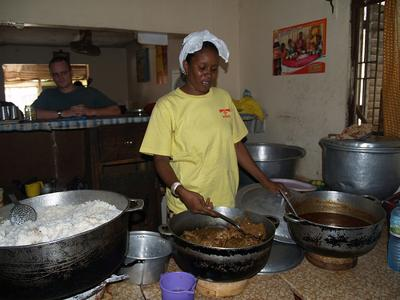person: (138, 33, 290, 227)
